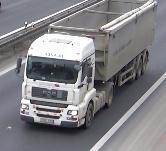Truck: (13, 0, 159, 132)
